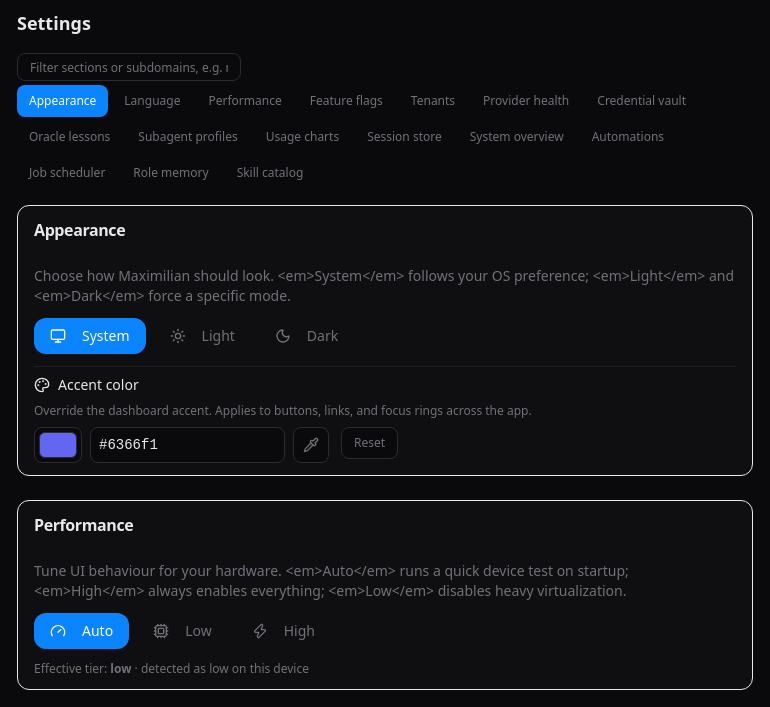
jobs wiring (jobsStore injection + creation notification) › mounts the jobs section, injects the query snapshot and notifies on new jobs
Click the button "Job scheduler" at (67,173), box [17,157,117,189]
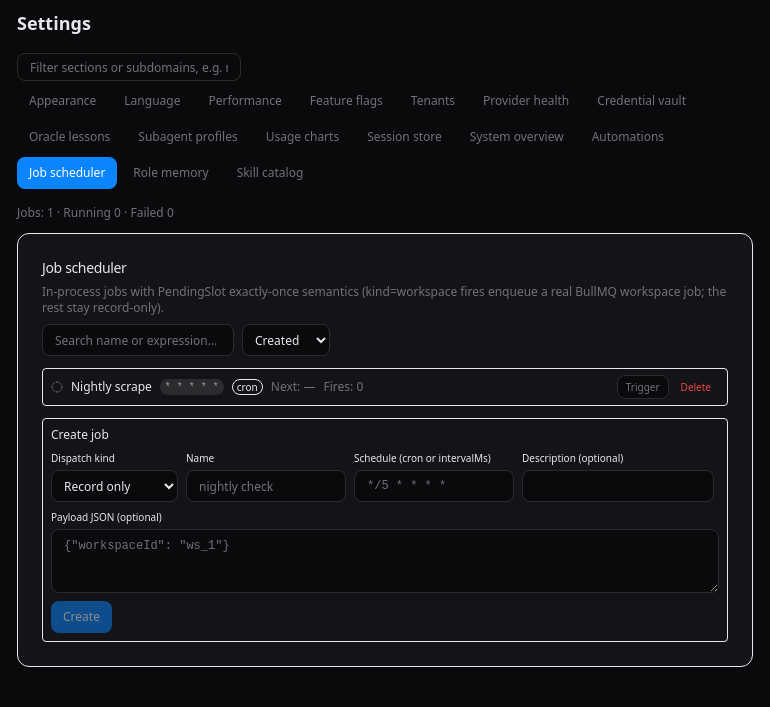
Expected: the element with test id "settings-jobs" is shown, [17,233,753,667]
Expected: the text with test id "jobs-store-summary" shows "1", [47,204,54,221]
Expected: the text "Nightly scrape" is shown, [71,379,152,395]
